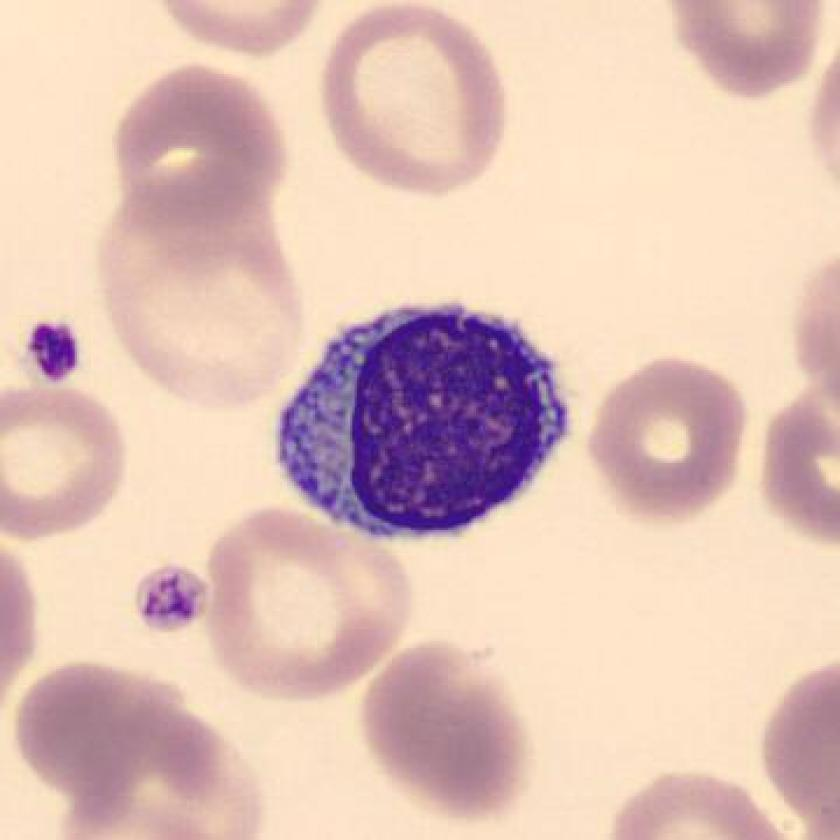lymphocyte: (262, 291, 594, 550)
